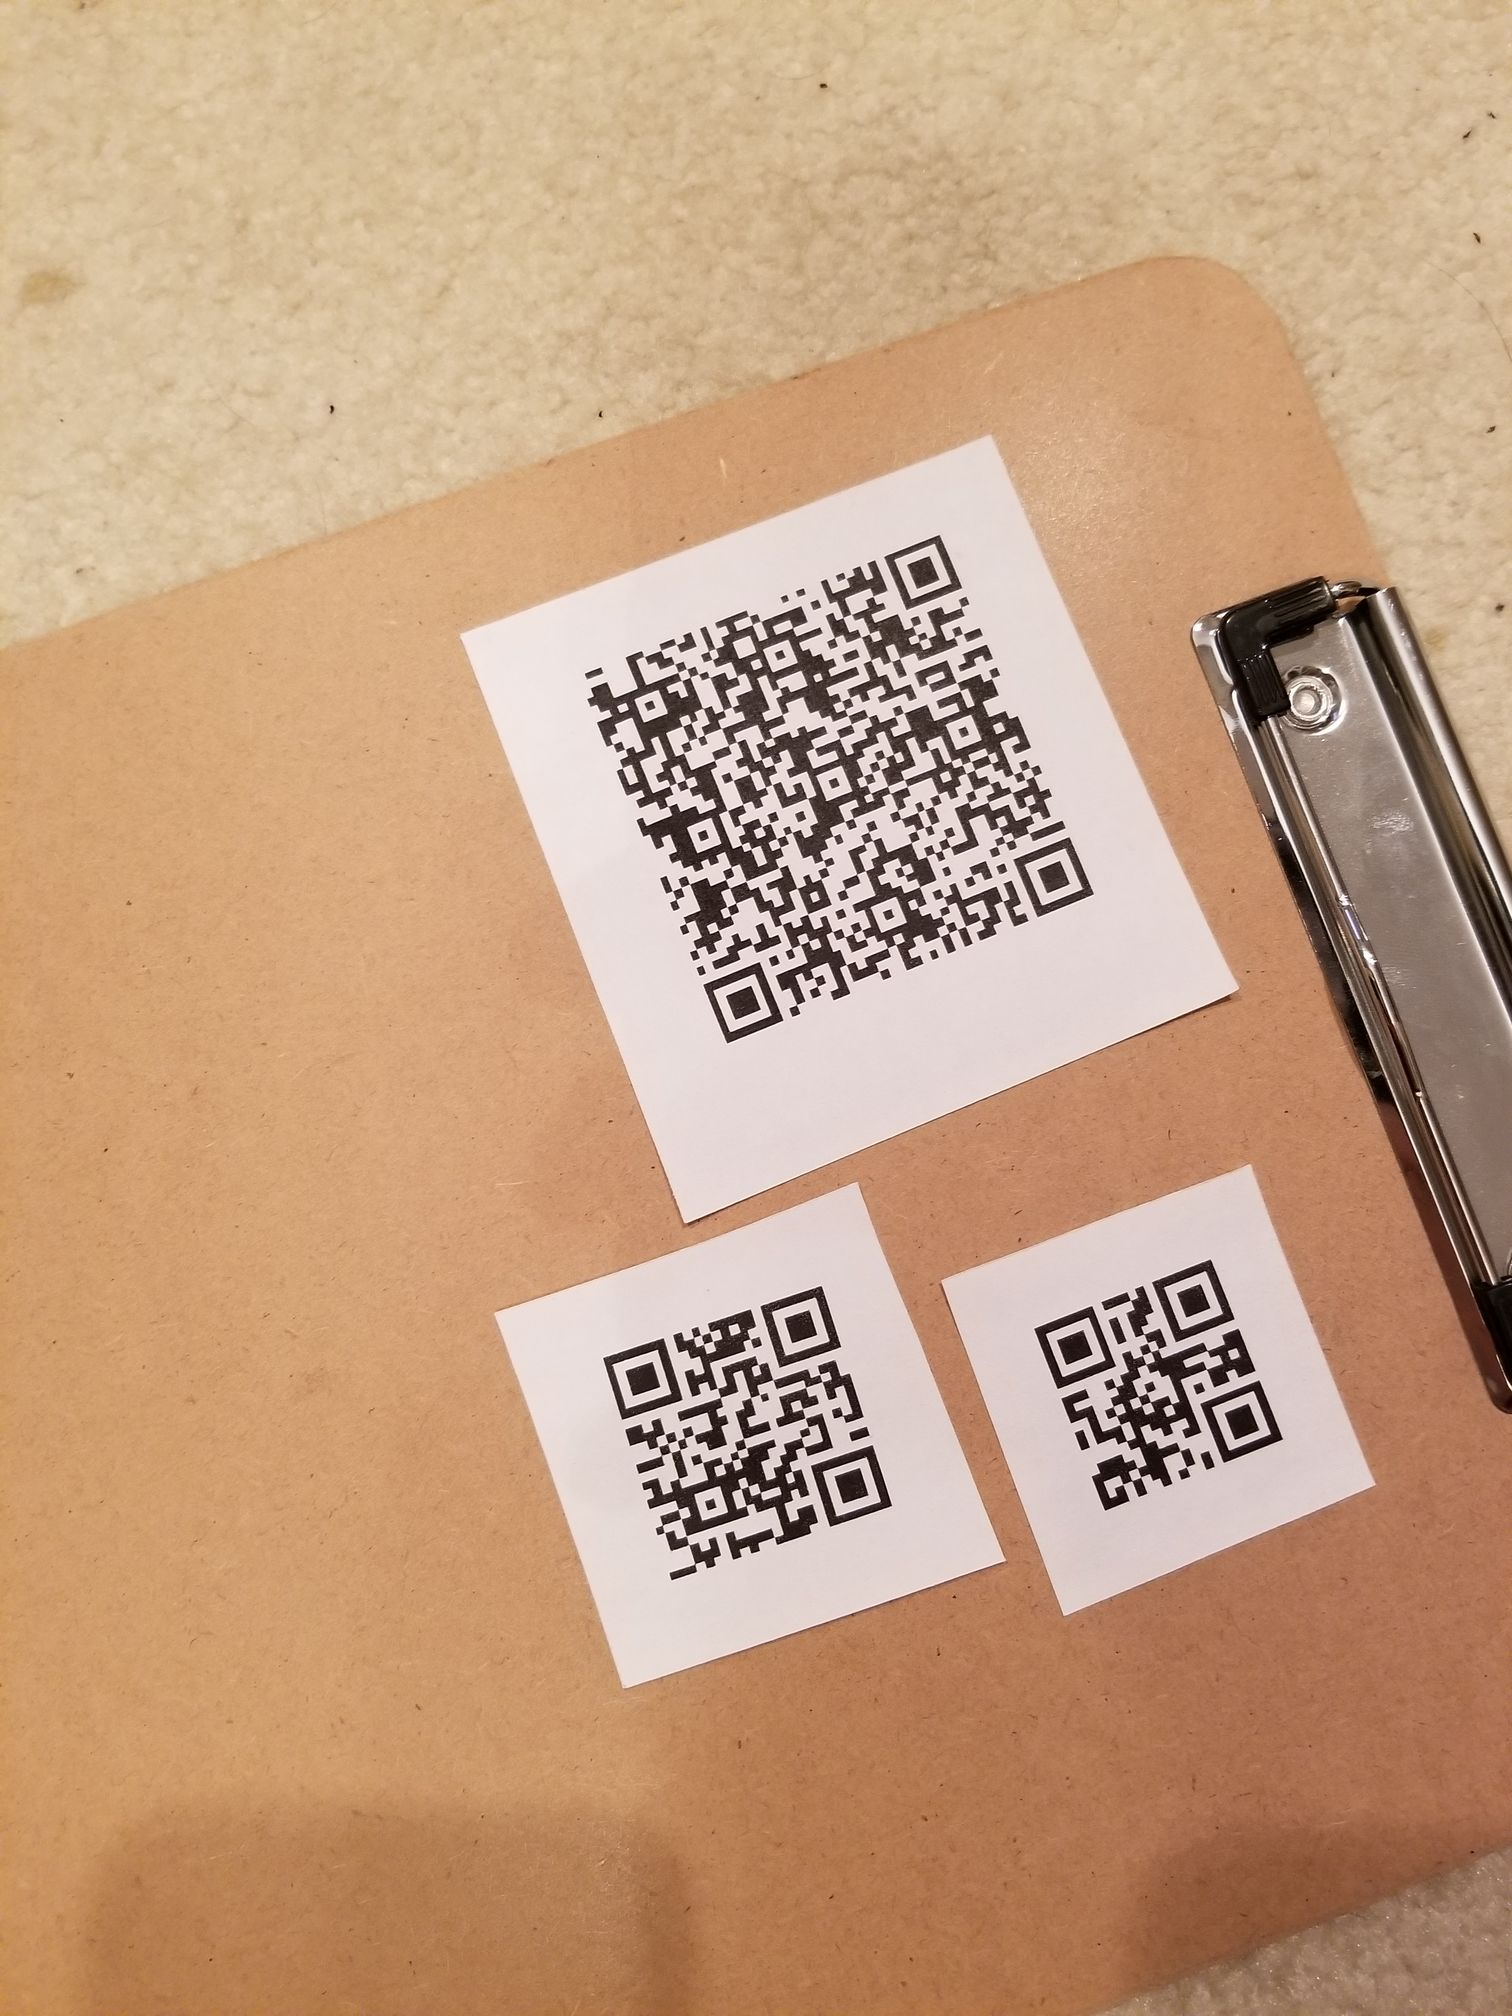QR_CODE: (557, 510, 1123, 1071), (572, 1270, 923, 1618), (1010, 1229, 1329, 1552)
